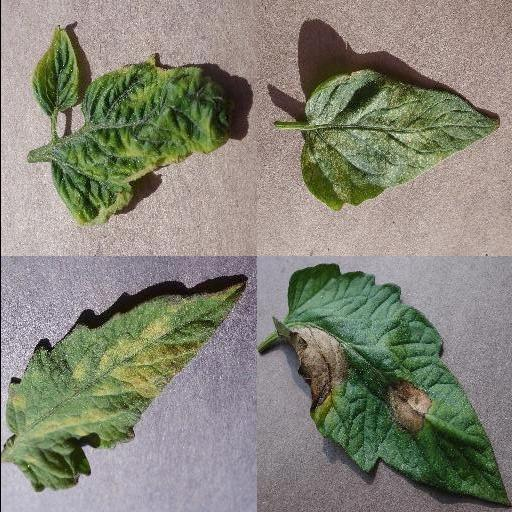Late Blight: (274, 263, 510, 507)
Leaf Mold: (5, 283, 247, 494)
Spider Mites: (298, 71, 498, 209)
Yellow Leaf Curl Virus: (50, 55, 230, 223), (33, 26, 79, 114)
